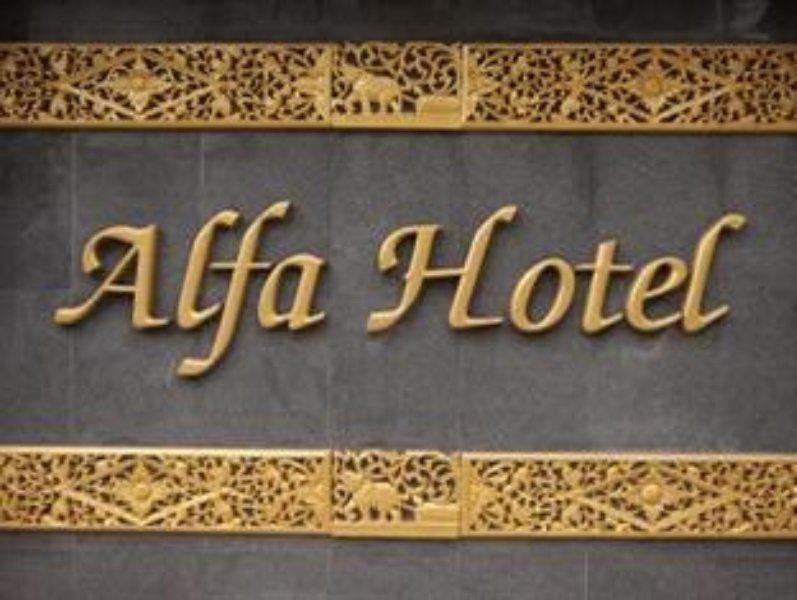text: (49, 195, 64, 383), (65, 195, 80, 383), (81, 195, 96, 383), (97, 195, 112, 383), (113, 195, 128, 383), (129, 195, 144, 383), (145, 195, 160, 383), (161, 195, 176, 383), (177, 195, 192, 383), (193, 195, 208, 383), (209, 195, 224, 383), (225, 195, 240, 383), (241, 195, 256, 383), (257, 195, 272, 383), (273, 195, 288, 383), (289, 195, 304, 383), (305, 195, 320, 383), (321, 195, 333, 383), (369, 200, 384, 338), (385, 200, 400, 338), (401, 200, 416, 338), (417, 200, 432, 338), (433, 200, 448, 338), (449, 200, 464, 338), (465, 200, 480, 338), (481, 200, 496, 338), (497, 200, 512, 338), (513, 200, 528, 338), (529, 200, 544, 338), (545, 200, 560, 338), (561, 200, 576, 338), (577, 200, 592, 338), (593, 200, 608, 338), (609, 200, 624, 338), (625, 200, 640, 338), (641, 200, 656, 338), (657, 200, 672, 338), (673, 200, 688, 338), (689, 200, 704, 338), (705, 200, 720, 338), (721, 200, 736, 338), (737, 200, 746, 338), (361, 200, 368, 338)
